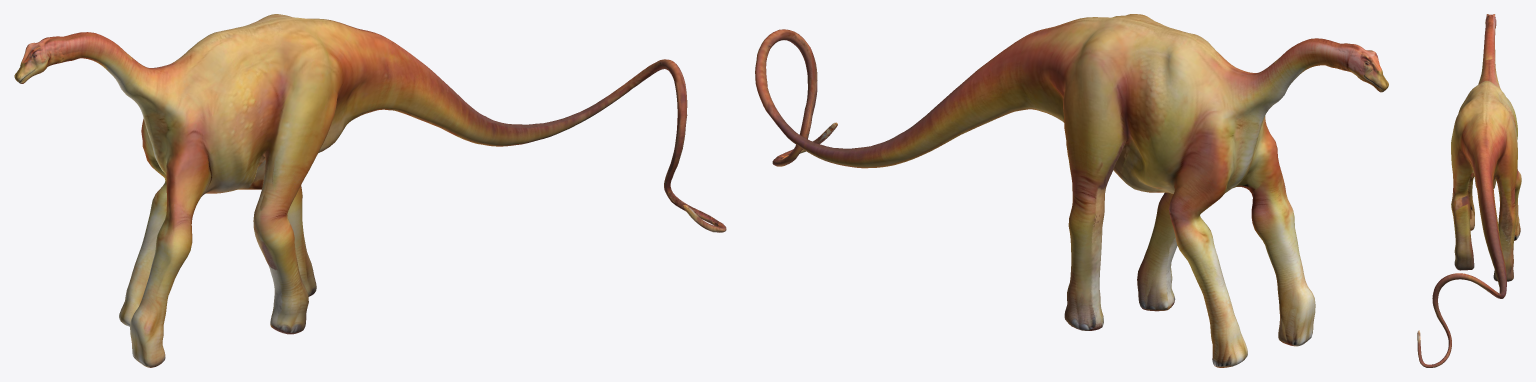
The picture shows the model from 3 angles, left to right: view 1: azimuth 30°, elevation 25°; view 2: azimuth 150°, elevation 25°; view 3: azimuth 270°, elevation 25°; orthographic projection. The views are drawn at different scales.
Parts seen in each view (by area): view 1: Mesh_0; view 2: Mesh_0; view 3: Mesh_0.
Boxes of the visible parts, x1,y1,x2,y2 form: Mesh_0: [14, 14, 726, 367]; Mesh_0: [755, 14, 1388, 367]; Mesh_0: [1417, 14, 1521, 367].
Bounding box in the file's own units: 0.115 × 0.0558 × 0.0272.
Materials: 1 (1 with a texture image).
